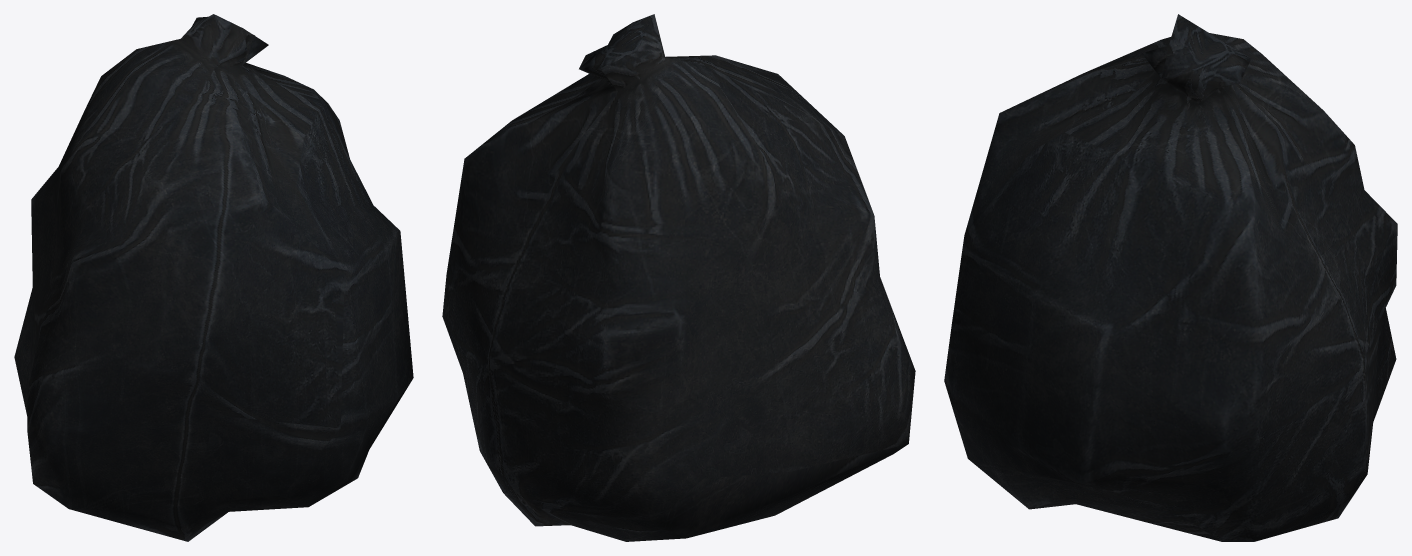
File: garbage_bag02.fbx
3 renders of one model, left to right at view 1: azimuth 30°, elevation 25°; view 2: azimuth 150°, elevation 25°; view 3: azimuth 270°, elevation 25°, orthographic. The views are drawn at different scales.
Visible parts, largest first — view 1: bag2; view 2: bag2; view 3: bag2.
Boxes of the visible parts, x1,y1,x2,y2 form: bag2: [14, 14, 413, 541]; bag2: [442, 14, 915, 541]; bag2: [944, 14, 1397, 541].
Size of the model in its own units: 0.9645 by 1.1 by 0.9.
